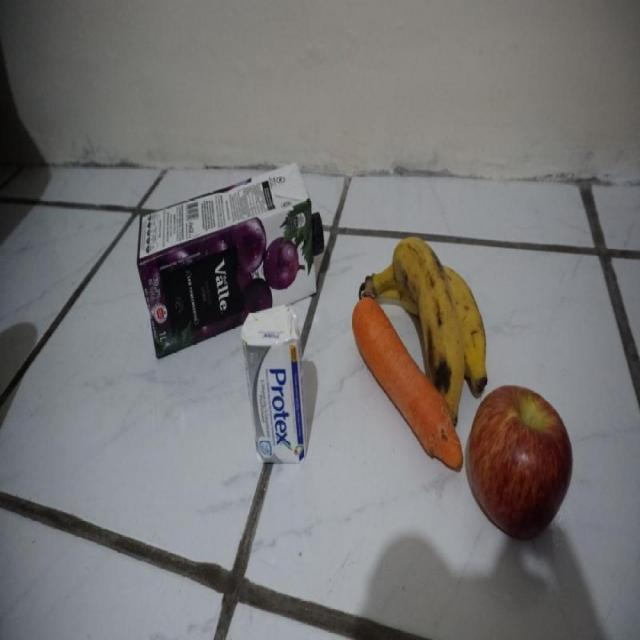Apple: (469, 394, 581, 538)
Banana: (424, 226, 488, 394)
Carrot: (352, 296, 419, 440)
Soap: (244, 306, 308, 471)
